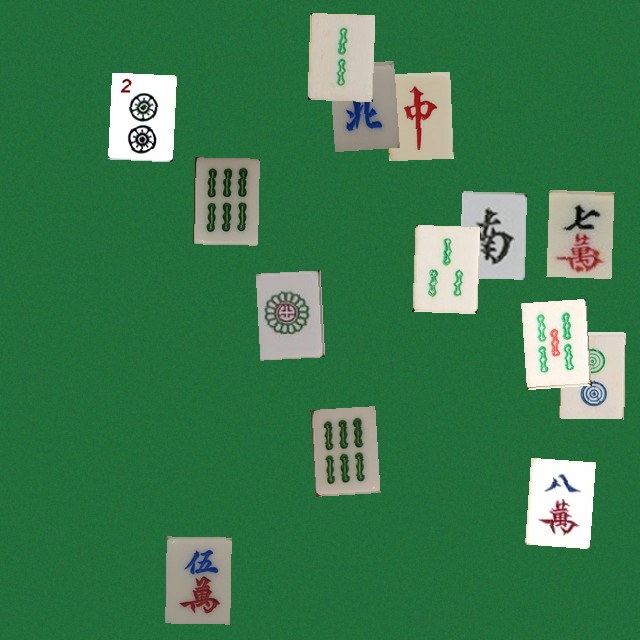tile: (525, 457, 590, 544), (385, 71, 450, 158), (559, 331, 624, 418), (546, 189, 611, 276), (459, 191, 524, 278), (412, 224, 477, 311), (310, 406, 375, 493), (165, 536, 230, 623), (329, 60, 394, 147), (521, 298, 586, 385), (255, 270, 320, 357), (107, 72, 172, 159), (193, 157, 258, 244), (307, 12, 372, 99)
